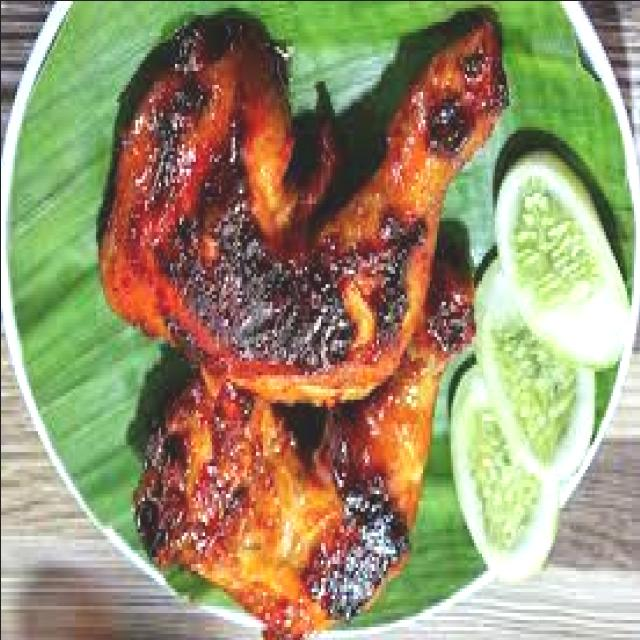ayam bakar: (97, 7, 506, 406), (125, 255, 475, 640)
